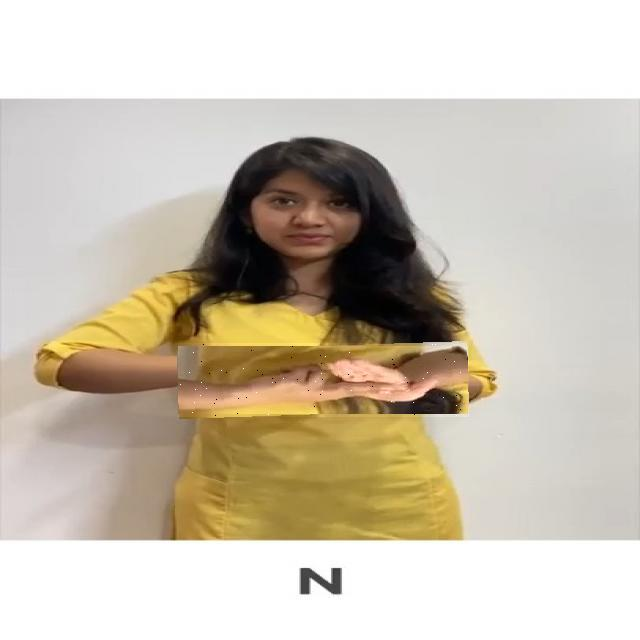N: (178, 343, 469, 417)
